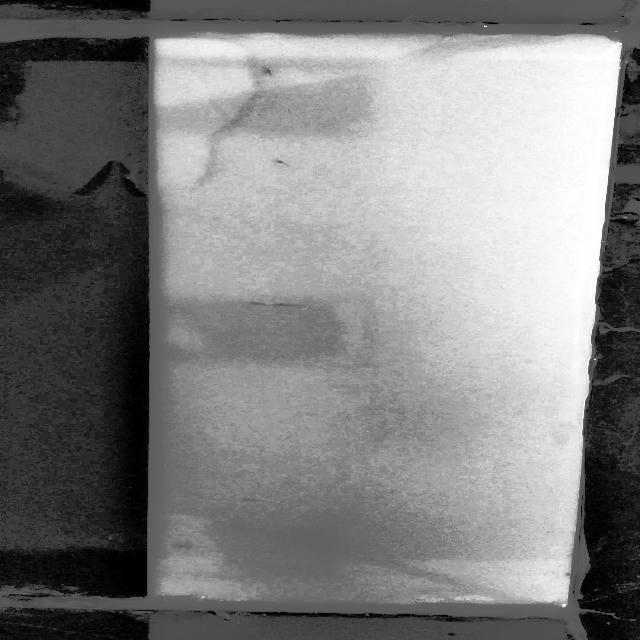shrimp: (272, 156, 297, 168), (270, 302, 300, 309), (239, 496, 263, 504), (247, 300, 270, 308), (177, 542, 199, 550), (262, 64, 276, 75)
